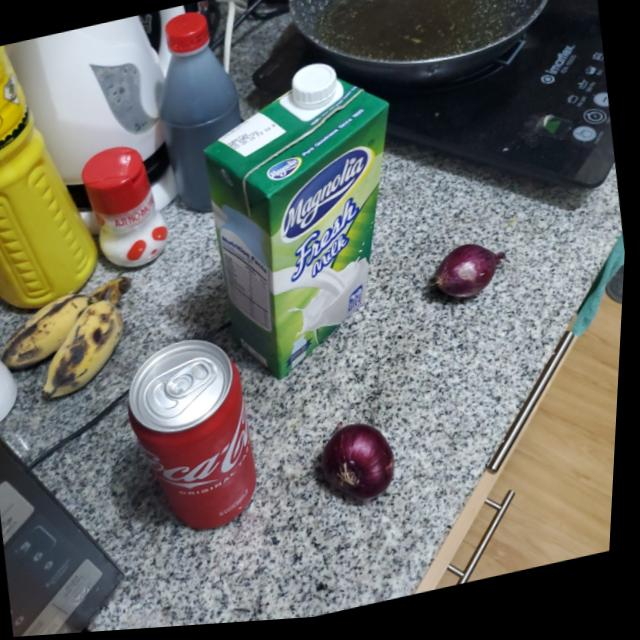coke: (115, 328, 276, 544)
milk: (190, 52, 430, 391)
onion: (318, 419, 407, 515), (423, 244, 514, 315)
